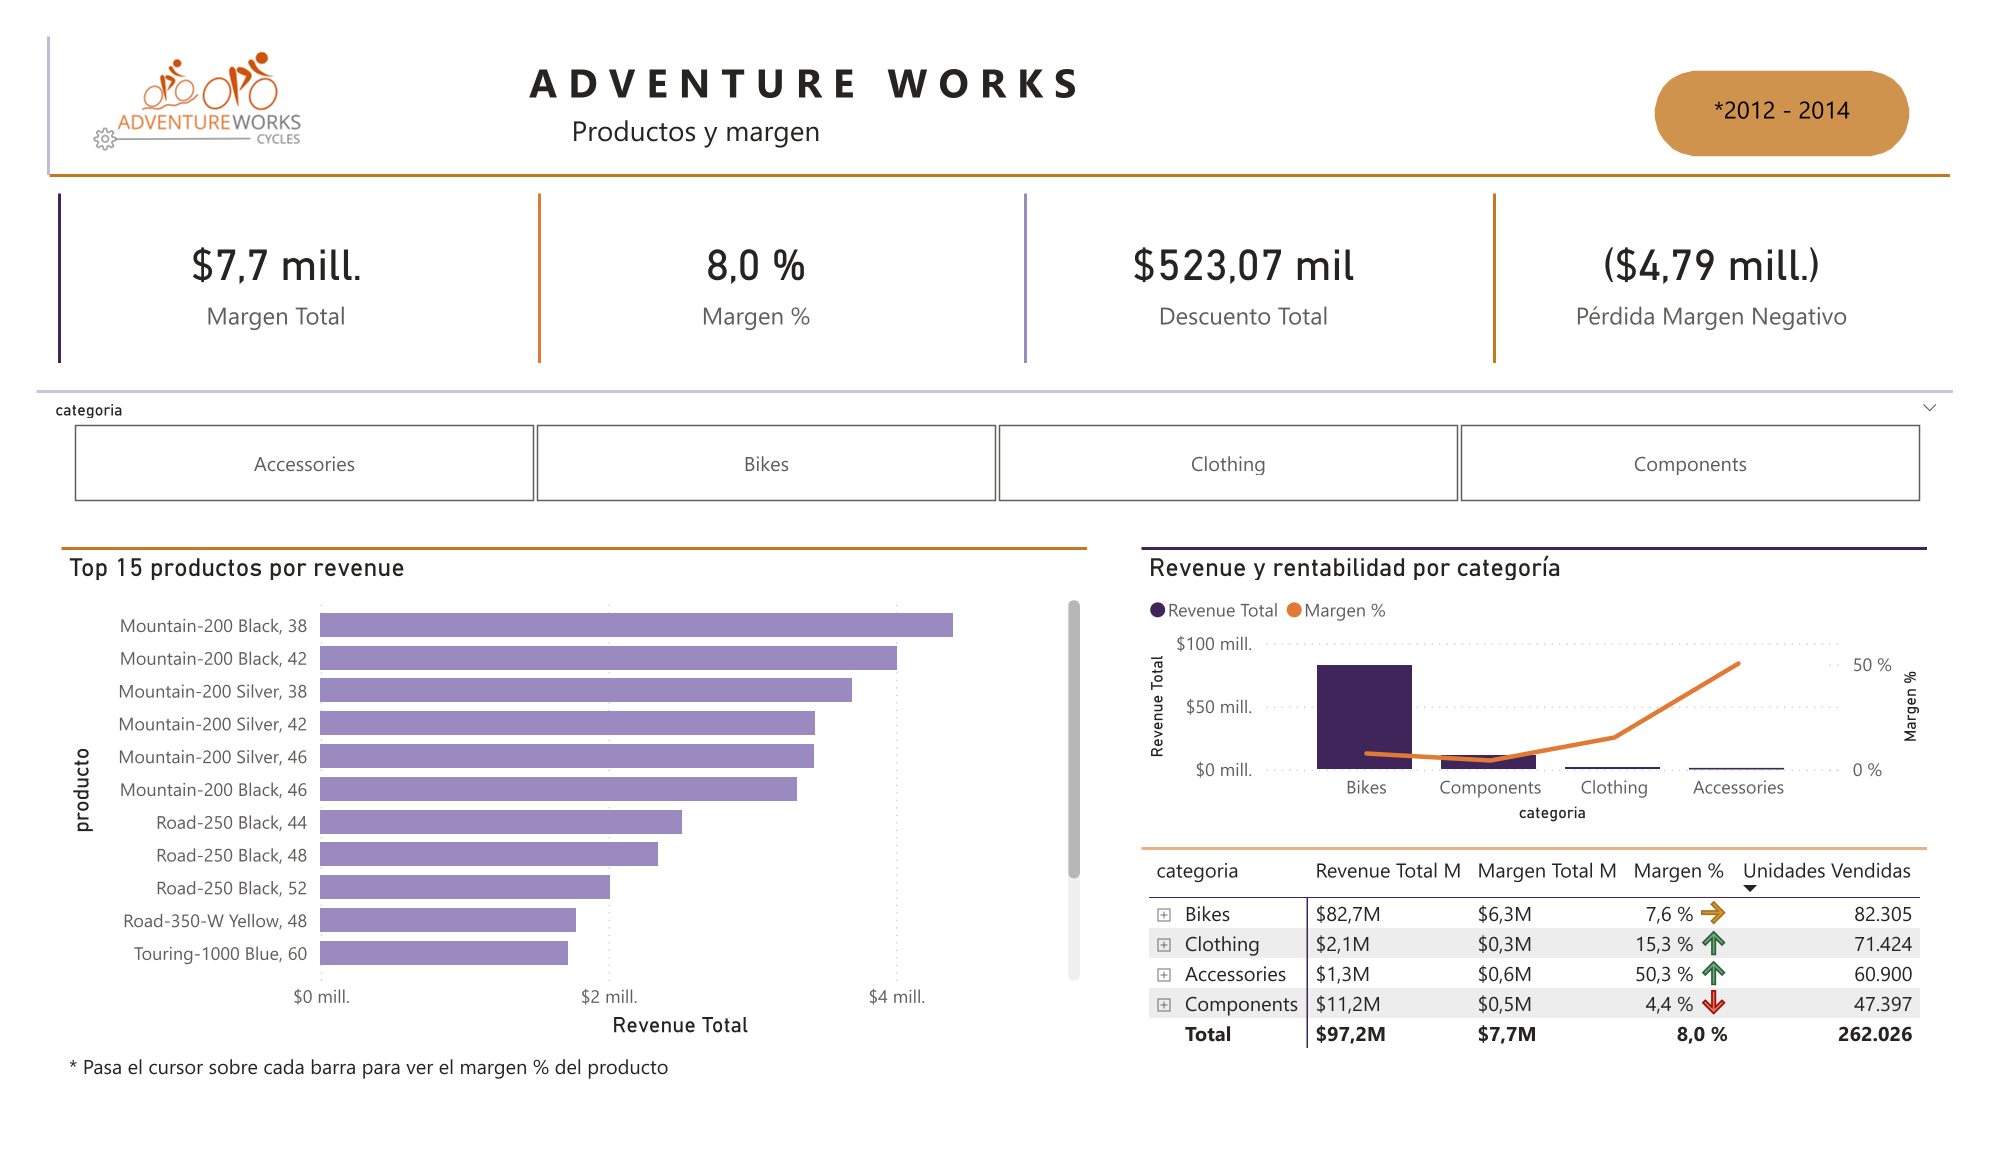

The page's visual inventory and layout, read from the dashboard file:
{"tool":"powerbi","page":{"name":"Productos y Márgen","canvas":[1280,720],"ordinal":1},"visuals":[{"type":"card","fields":{"Values":["Medidas.Margen Total"]},"box":[15,105,290,113.3],"z":0},{"type":"card","fields":{"Values":["Medidas.Margen %"]},"box":[335,105,290,113.3],"z":1000},{"type":"card","fields":{"Values":["Medidas.Descuento Total"]},"box":[660,105,290,113.3],"z":2000},{"type":"card","fields":{"Values":["Medidas.Pérdida Margen Negativo"]},"box":[971.7,105,290,113.3],"z":3000},{"type":"lineStackedColumnComboChart","title":"Revenue y rentabilidad por categoría","fields":{"Category":["vw_fact_sales.categoria"],"Y":["Medidas.Revenue Total"],"Y2":["Medidas.Margen %"]},"box":[737.1,344.3,524.3,184.3],"z":4000},{"type":"clusteredBarChart","title":"Top 15 productos por revenue","fields":{"Category":["vw_fact_sales.producto"],"Y":["Medidas.Revenue Total"]},"box":[17.1,344.3,684.3,328.6],"z":5000},{"type":"slicer","fields":{"Values":["vw_fact_sales.categoria"]},"box":[0,238.3,1280,78.3],"z":7000},{"type":"textbox","box":[6.7,0,1267.8,92.2],"z":8000},{"type":"textbox","box":[17.1,672.9,684.3,31.4],"z":9000},{"type":"image","box":[7.1,8.6,201.4,72.9],"z":11000},{"type":"shape","box":[9,90,1267,6],"z":12000},{"type":"textbox","box":[351.7,45,330,36.7],"z":13000},{"type":"textbox","box":[1078.6,22.9,170,57.1],"z":14000},{"type":"shape","box":[0,0,15.6,93.3],"z":15000},{"type":"shape","box":[0,236,1278,2],"z":16000},{"type":"shape","box":[8.3,105,15,113.3],"z":17000},{"type":"shape","box":[328.3,105,15,113.3],"z":18000},{"type":"shape","box":[651.7,105,15,113.3],"z":19000},{"type":"shape","box":[965,105,15,113.3],"z":20000},{"type":"pivotTable","fields":{"Values":["Medidas.Revenue Total M","Medidas.Margen Total M","Medidas.Margen %","Medidas.Unidades Vendidas"],"Rows":["vw_dim_products.categoria","vw_dim_products.subcategoria"]},"box":[737.1,541.4,524.3,162.9],"z":21000},{"type":"shape","box":[17.1,338.6,684.3,5.7],"z":21001},{"type":"shape","box":[737.1,538.6,524.3,5.7],"z":21002},{"type":"shape","box":[737.1,338.6,524.3,5.7],"z":21003}]}

Visuals, with their boxes in screenshot pixels (x1, y1, x2, y2), scaled from the page's 1280x720 canvas onto the 1992x1152 screenshot:
card - Medidas.Margen Total: [23, 168, 475, 349]
card - Medidas.Margen %: [521, 168, 973, 349]
card - Medidas.Descuento Total: [1027, 168, 1478, 349]
card - Medidas.Pérdida Margen Negativo: [1512, 168, 1964, 349]
"Revenue y rentabilidad por categoría" lineStackedColumnComboChart: [1147, 551, 1963, 846]
"Top 15 productos por revenue" clusteredBarChart: [27, 551, 1092, 1077]
slicer - vw_fact_sales.categoria: [0, 381, 1991, 507]
textbox: [10, 0, 1983, 148]
textbox: [27, 1077, 1092, 1127]
image: [11, 14, 324, 130]
shape: [14, 144, 1986, 154]
textbox: [547, 72, 1061, 131]
textbox: [1679, 37, 1943, 128]
shape: [0, 0, 24, 149]
shape: [0, 378, 1989, 381]
shape: [13, 168, 36, 349]
shape: [511, 168, 534, 349]
shape: [1014, 168, 1038, 349]
shape: [1502, 168, 1525, 349]
pivotTable - Medidas.Revenue Total M x Medidas.Margen Total M: [1147, 866, 1963, 1127]
shape: [27, 542, 1092, 551]
shape: [1147, 862, 1963, 871]
shape: [1147, 542, 1963, 551]
